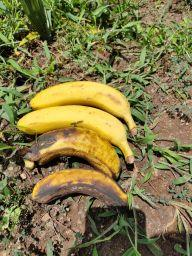banana: (14, 103, 136, 166), (28, 80, 139, 138), (19, 125, 123, 183), (29, 165, 131, 217)
